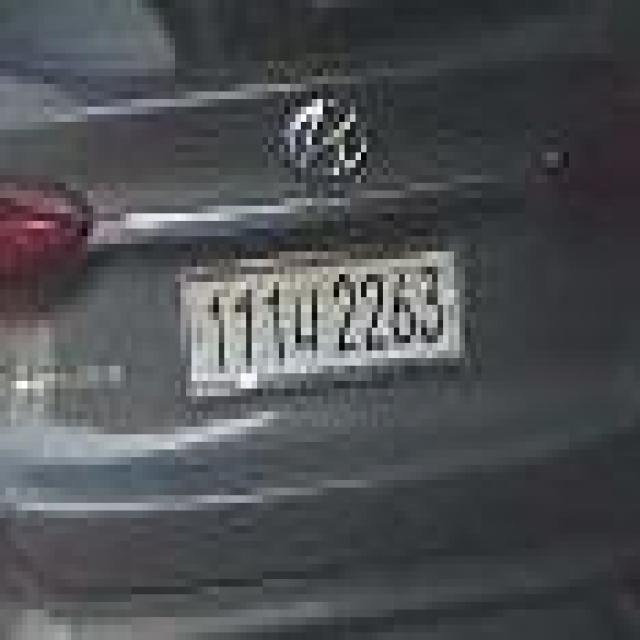illegal_plate: (175, 243, 468, 405)
